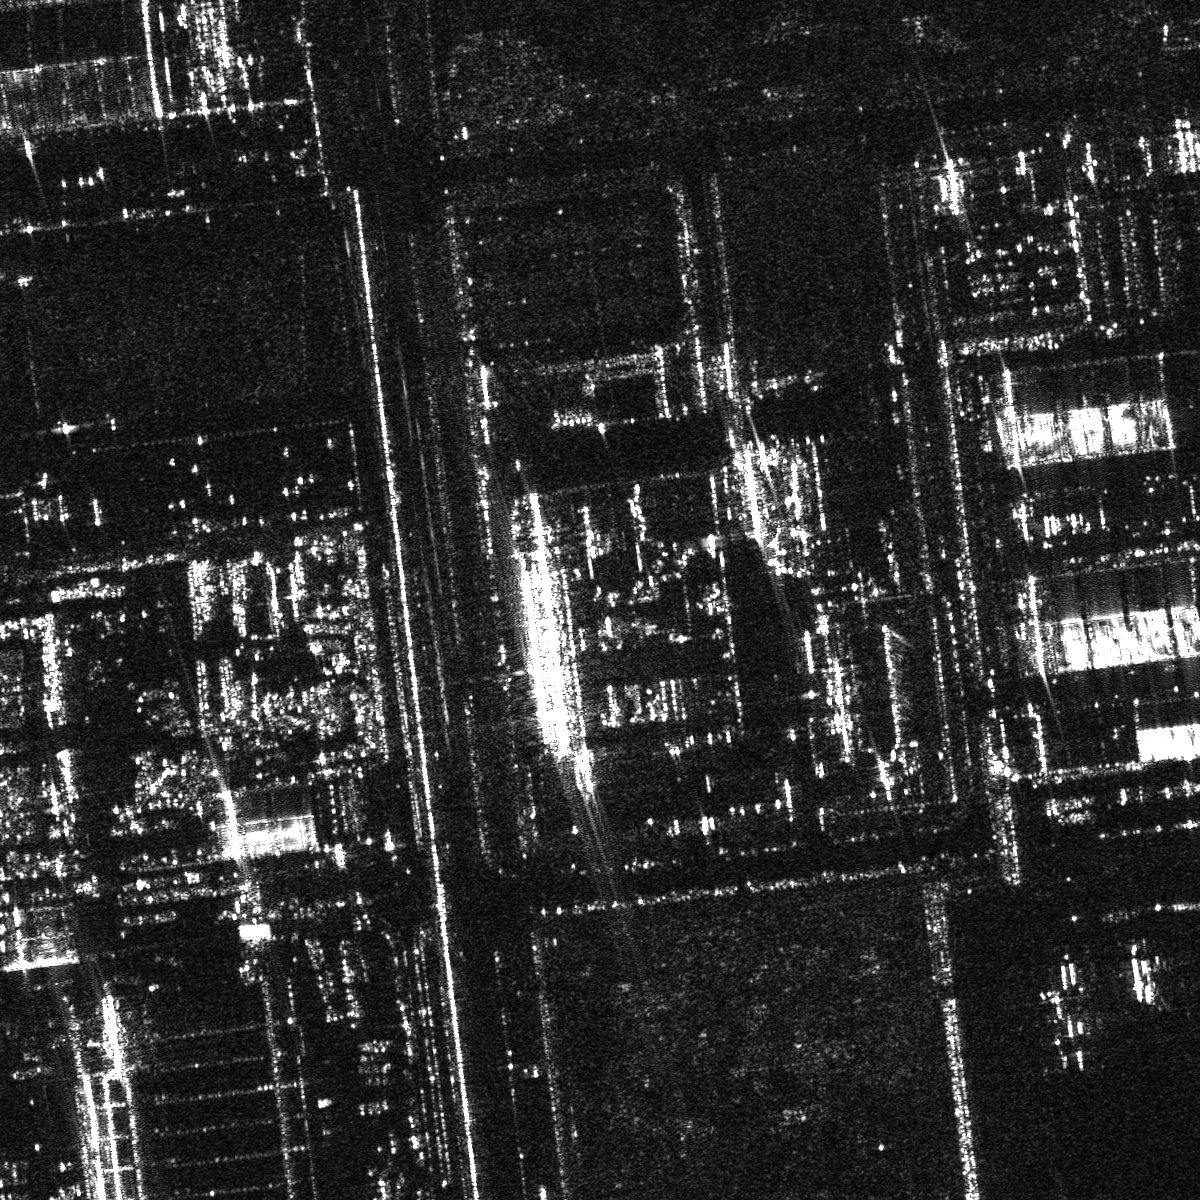Boeing787: (1114, 942, 1173, 1005)
other: (1018, 977, 1095, 1071)
